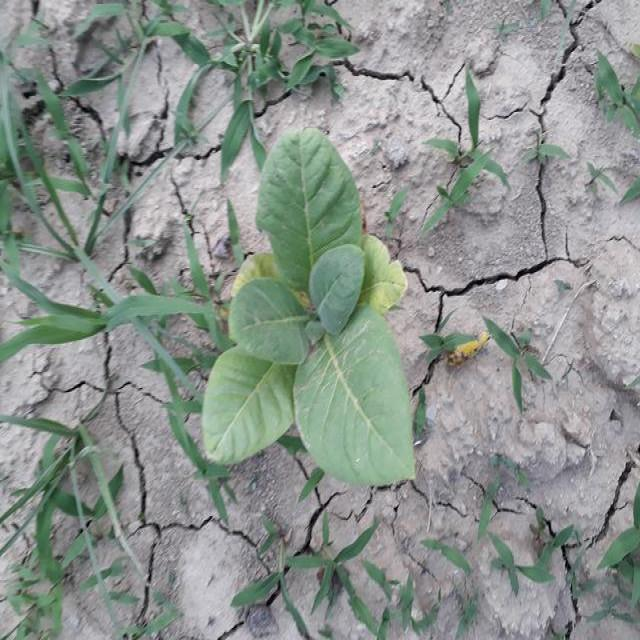crop: (198, 110, 426, 495)
